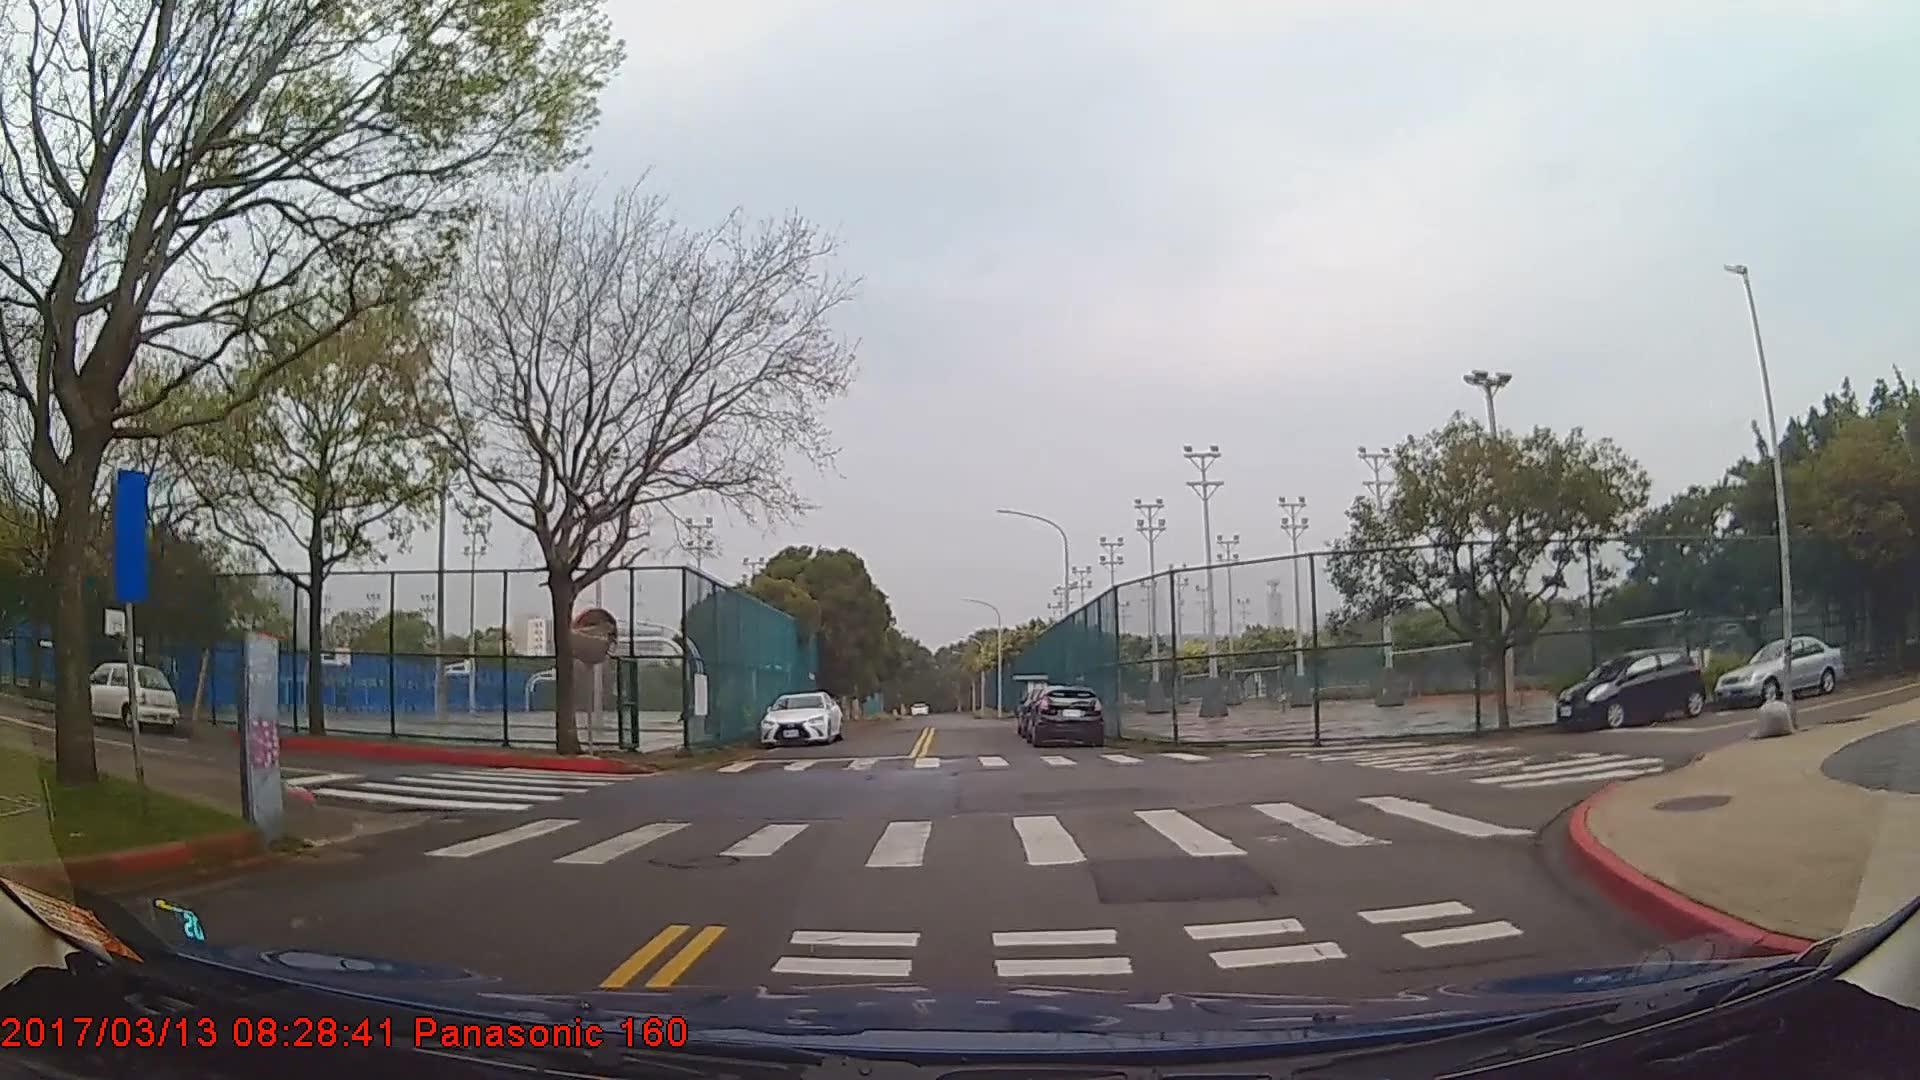vehicle: (1555, 646, 1704, 732), (1712, 637, 1844, 704), (69, 659, 178, 727), (1025, 686, 1102, 749), (760, 690, 843, 746)
